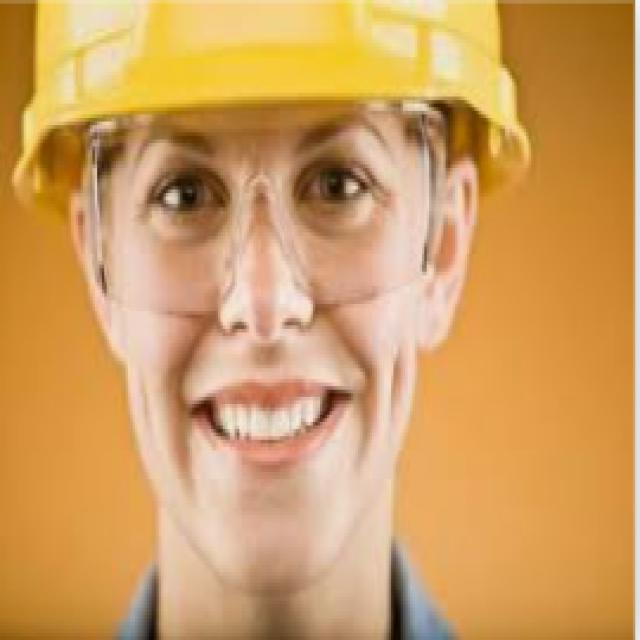glasses: (76, 120, 440, 312)
